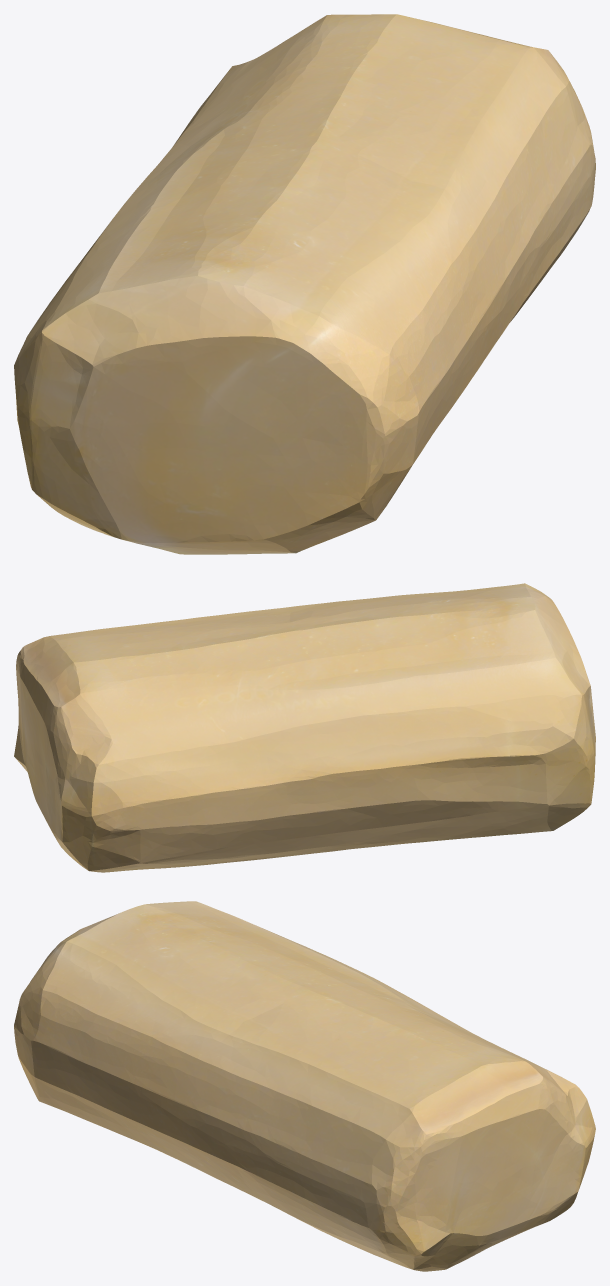
Rendered from Bar_of_Soap_0521084542_texture.fbx.
3 views of the same model, one above another, from view 1: azimuth 30°, elevation 25°; view 2: azimuth 150°, elevation 25°; view 3: azimuth 270°, elevation 25° (orthographic). The views are drawn at different scales.
Parts seen in each view (by area): view 1: temp; view 2: temp; view 3: temp.
Boxes of the visible parts, x1=… form: temp: x1=14, y1=14, x2=595, y2=554; temp: x1=14, y1=583, x2=595, y2=872; temp: x1=14, y1=901, x2=595, y2=1271.
Bounding box in the file's own units: 200 × 78.4 × 200.
1 material, 1 textured.
